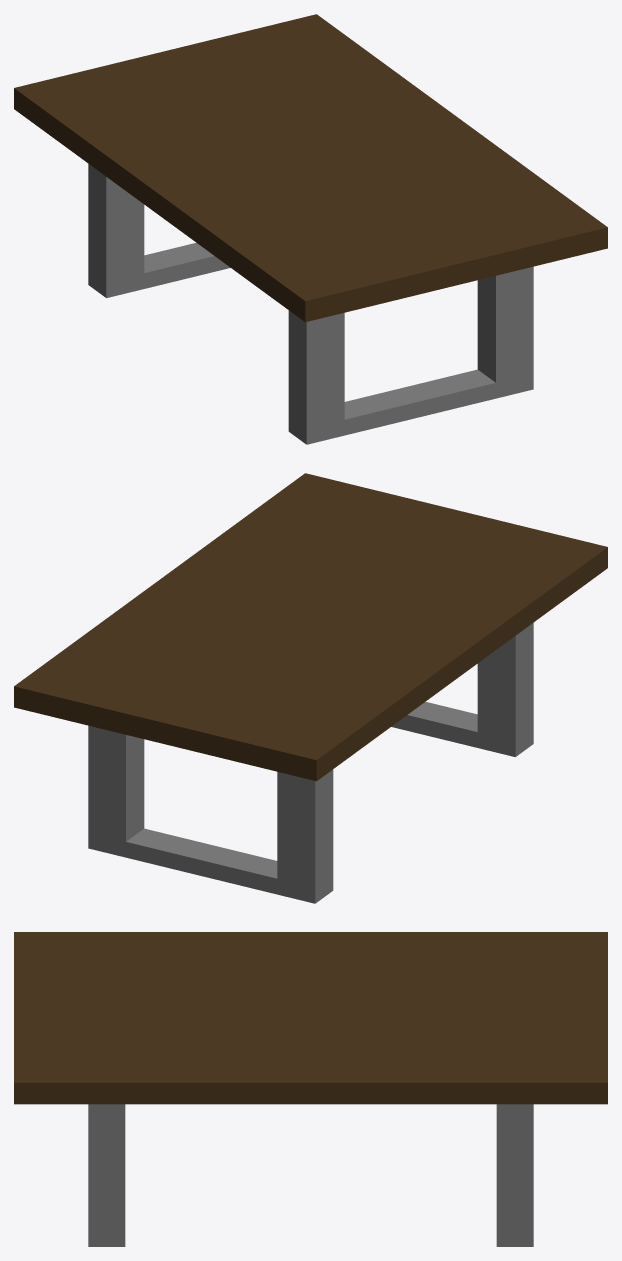
Rendered from table.fbx.
3 renders of one model, top to bottom at view 1: azimuth 30°, elevation 25°; view 2: azimuth 150°, elevation 25°; view 3: azimuth 270°, elevation 25°, orthographic.
Visible parts, largest first — view 1: Cube; view 2: Cube; view 3: Cube.
Boxes of the visible parts, box(x1,y1,x2,y2) form: Cube: box(14, 14, 607, 444); Cube: box(14, 473, 607, 903); Cube: box(14, 932, 607, 1246).
Size of the model in its own units: 300 by 170 by 500.
